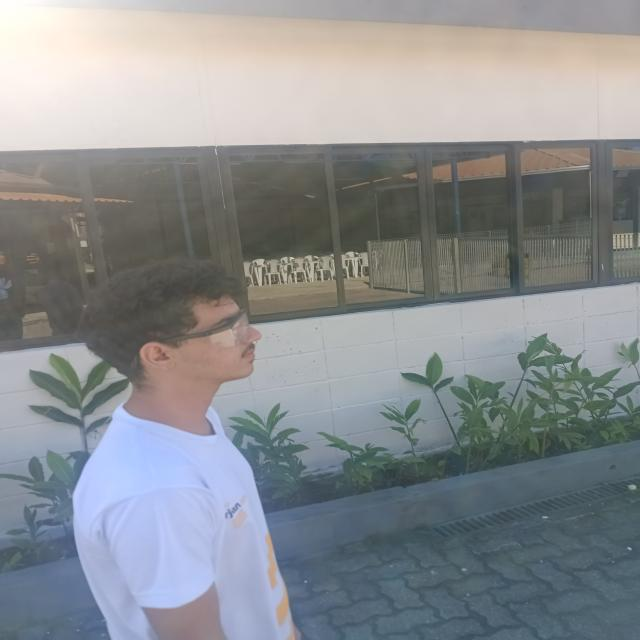oculos-epi: (159, 307, 251, 349)
